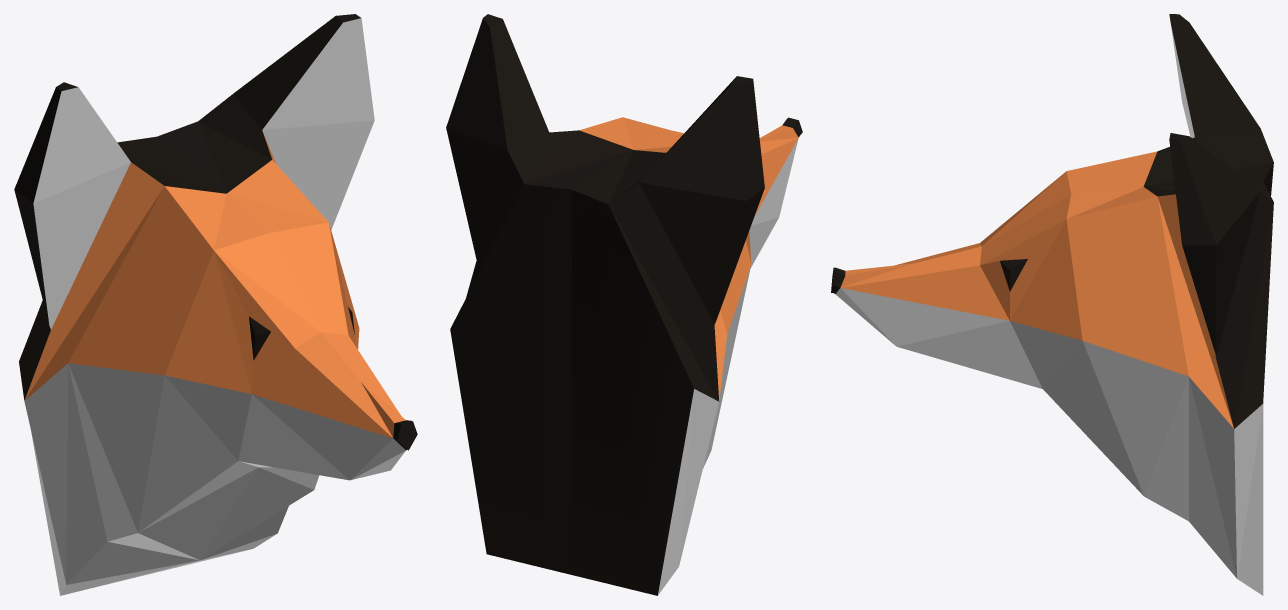
The model's file is fox.dae.
3 views of the same model, side by side, from view 1: azimuth 30°, elevation 25°; view 2: azimuth 150°, elevation 25°; view 3: azimuth 270°, elevation 25° (orthographic). The views are drawn at different scales.
Parts seen in each view (by area): view 1: Symmetry.2; view 2: Symmetry.2; view 3: Symmetry.2.
Part boxes in pixels (left/top/right/bottom): Symmetry.2: left=14, top=14, right=417, bottom=595; Symmetry.2: left=446, top=14, right=802, bottom=595; Symmetry.2: left=831, top=14, right=1273, bottom=595.
Bounding box in the file's own units: 369 × 577 × 483.
